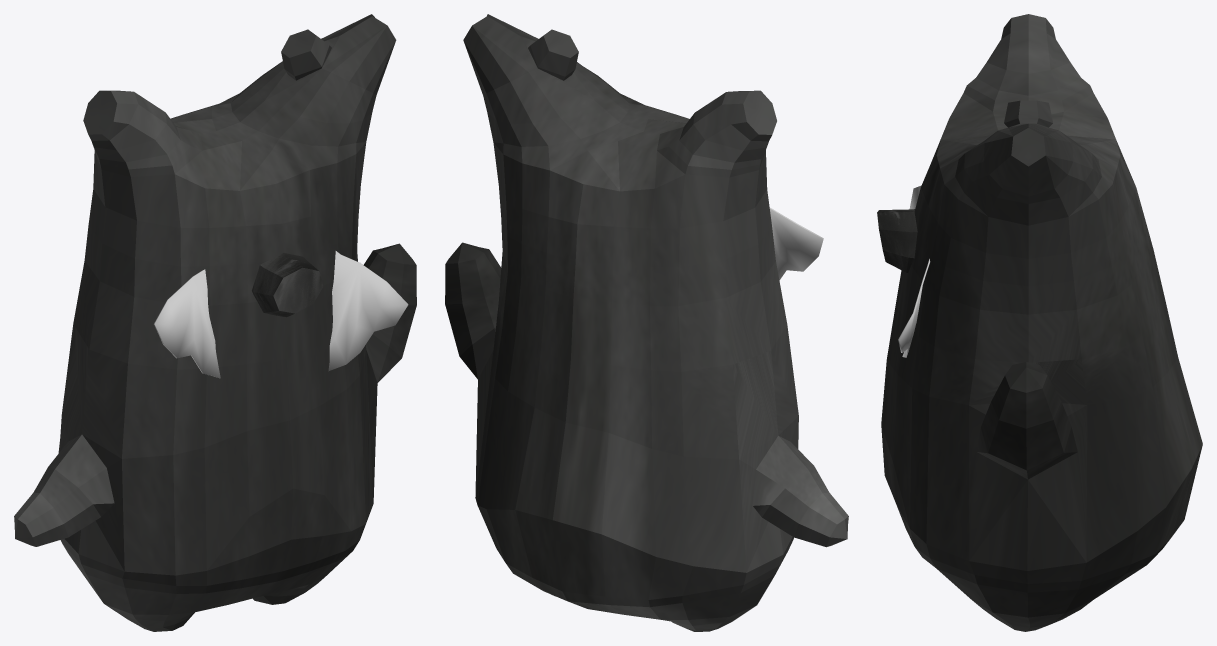
The model's file is frame_0043.obj.
3 renders of one model, left to right at view 1: azimuth 30°, elevation 25°; view 2: azimuth 150°, elevation 25°; view 3: azimuth 270°, elevation 25°, orthographic. The views are drawn at different scales.
Visible parts, largest first — view 1: korok, leaf, nose; view 2: korok, leaf; view 3: korok, nose, leaf.
Part boxes in pixels (x1,y1,x2,y2): korok: (14,14,416,631); leaf: (154,251,408,378); nose: (252,252,323,317); korok: (445,14,848,631); leaf: (769,207,823,280); korok: (881,14,1202,631); nose: (877,209,917,272); leaf: (898,185,930,357).
Bounding box in the file's own units: 1.63 × 2.19 × 1.18.
